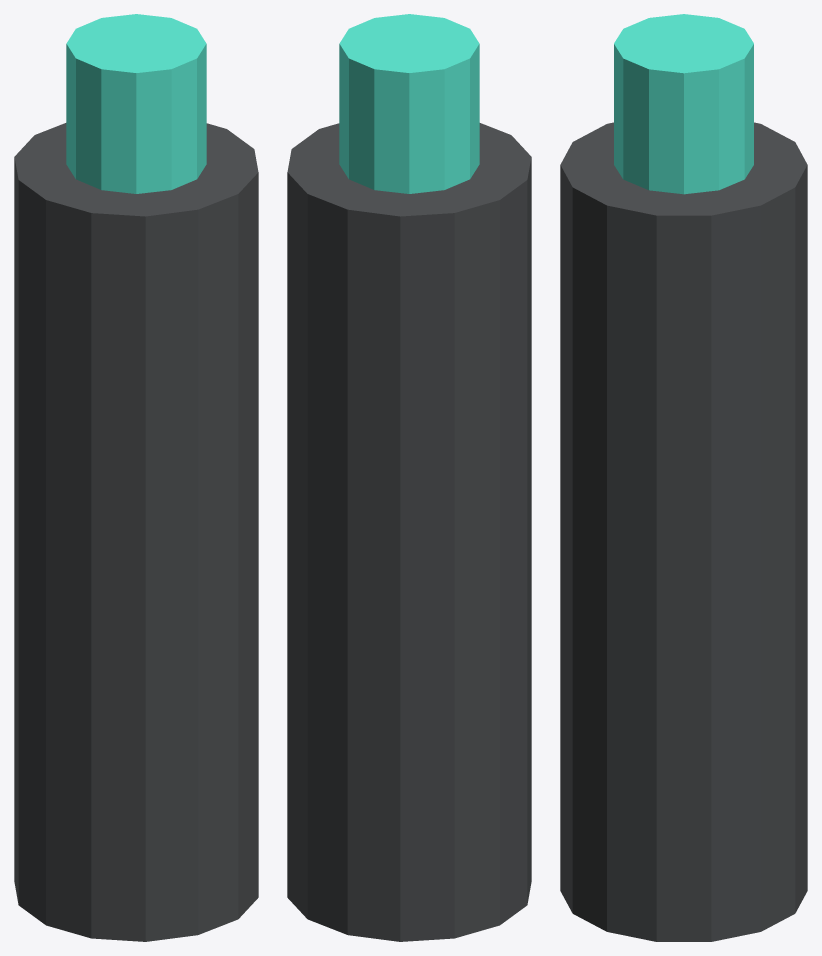
The model's file is gym_bottle.glb.
3 renders of one model, left to right at view 1: azimuth 30°, elevation 25°; view 2: azimuth 150°, elevation 25°; view 3: azimuth 270°, elevation 25°, orthographic.
Parts seen in each view (by area): view 1: bottle, cap; view 2: bottle, cap; view 3: bottle, cap.
Part boxes in pixels (x1,y1,x2,y2): bottle: [14, 123, 258, 941]; cap: [66, 14, 206, 193]; bottle: [287, 123, 531, 941]; cap: [339, 14, 479, 193]; bottle: [560, 122, 807, 941]; cap: [614, 14, 753, 194].
Size of the model in its own units: 0.0721 by 0.28 by 0.074.
